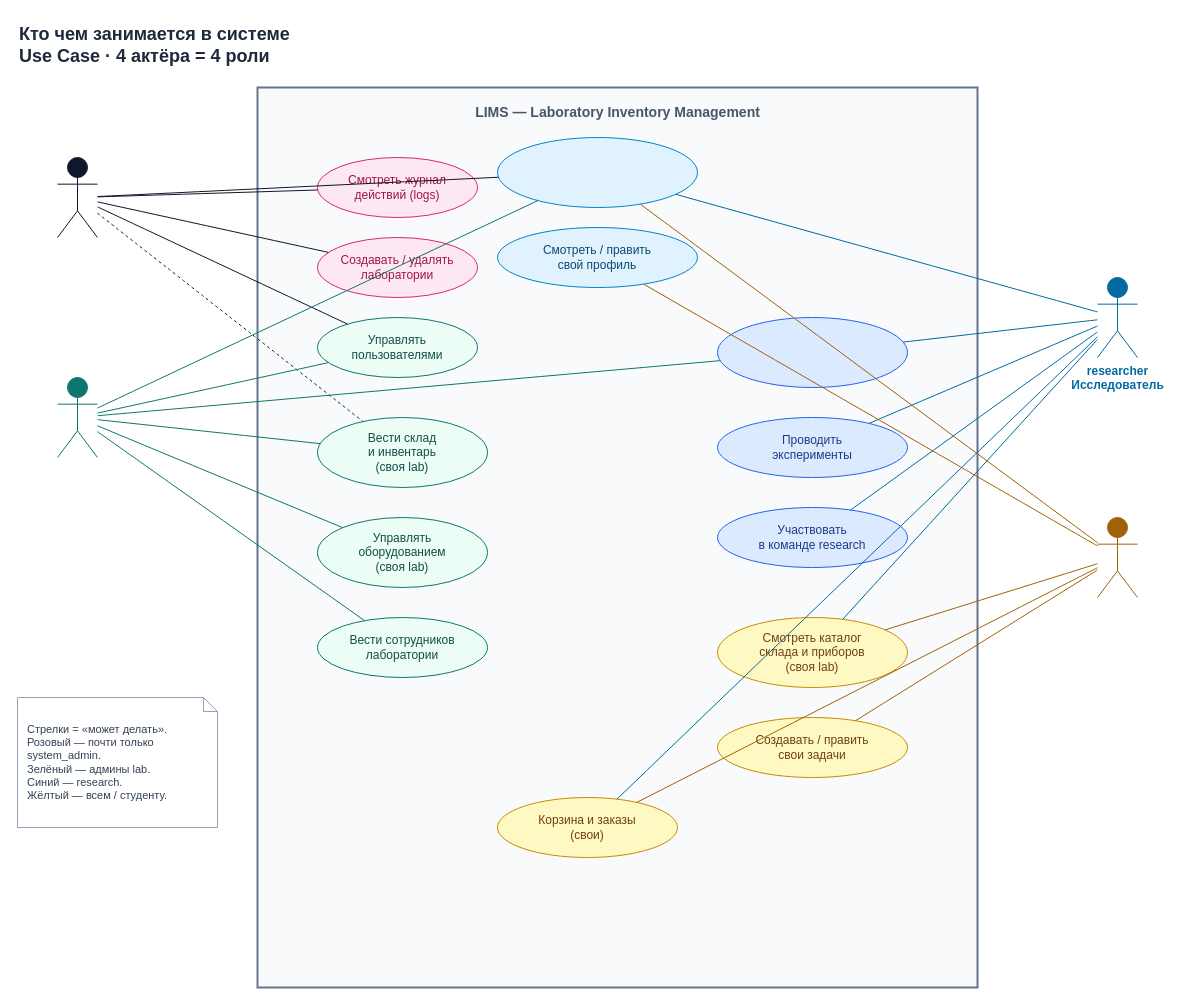
Some shapes in this 1181 by 1005 pixel diagram are drawn without their labels. Each missing label, with the centre of its shape:
lab_admin Админ лаборатории: point 77,417
student Студент: point 1117,557
system_admin Системный администратор: point 77,197
Вести исследования и задачи (своя lab): point 812,352
Войти в систему (Cookie + Bearer JWT): point 597,172
